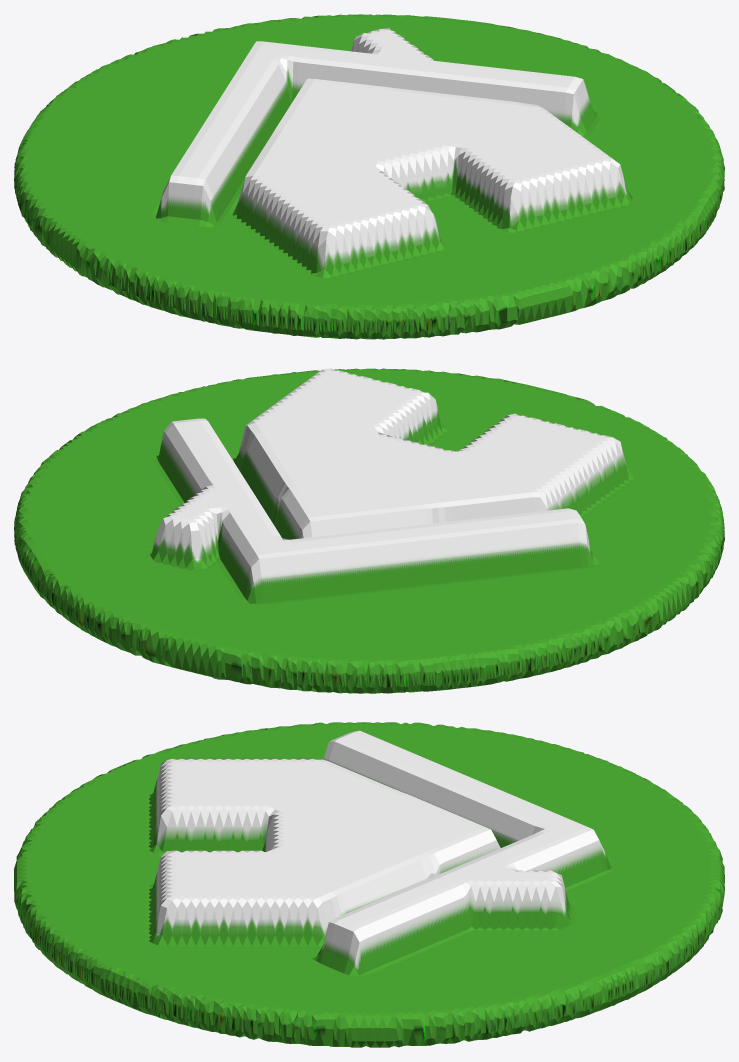
The model's file is home_green.glb.
3 views of the same model, one above another, from view 1: azimuth 30°, elevation 25°; view 2: azimuth 150°, elevation 25°; view 3: azimuth 270°, elevation 25° (orthographic).
Parts seen in each view (by area): view 1: Plane; view 2: Plane; view 3: Plane.
Part boxes in pixels (x1,y1,x2,y2): Plane: (14,14,724,339); Plane: (14,368,724,693); Plane: (14,722,724,1047).
Size of the model in its own units: 1.01 by 0.1112 by 1.01.
Materials: 1 (1 with a texture image).
